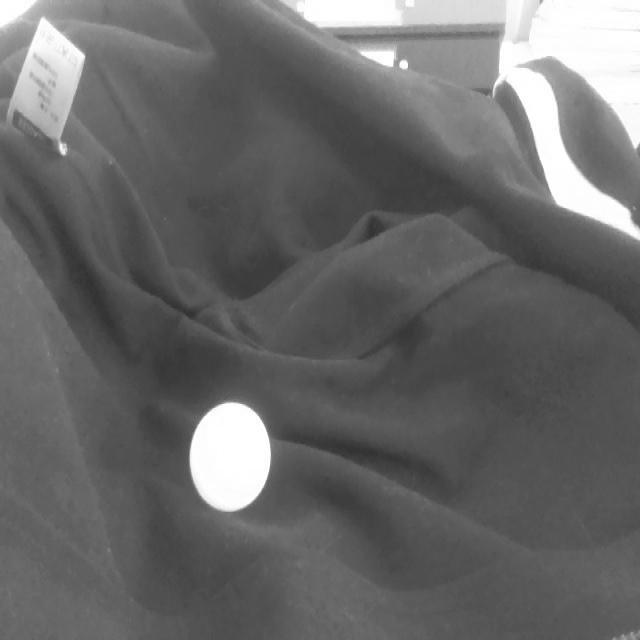ping-pong-ball: (188, 406, 272, 512)
